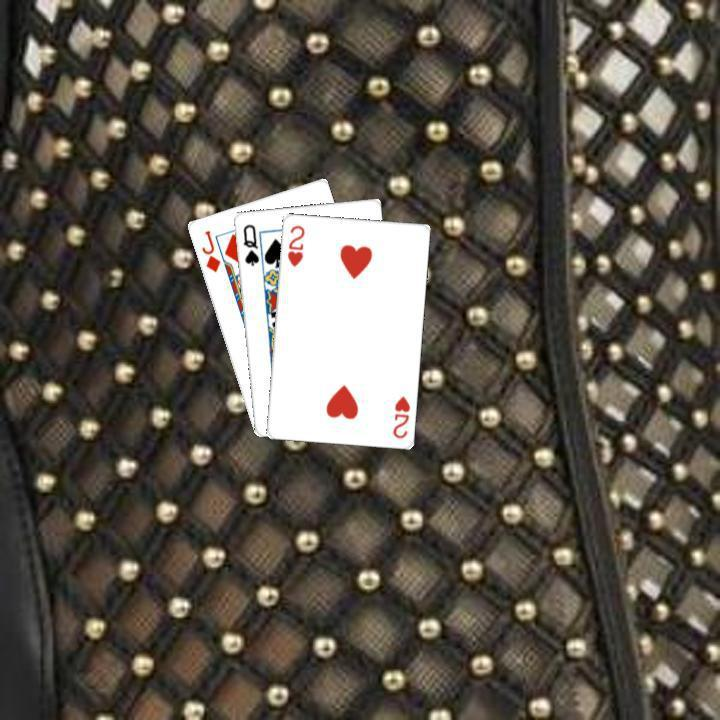2: (388, 391, 411, 440), (283, 220, 306, 268)
J: (197, 226, 222, 274)
Q: (238, 220, 260, 267)
